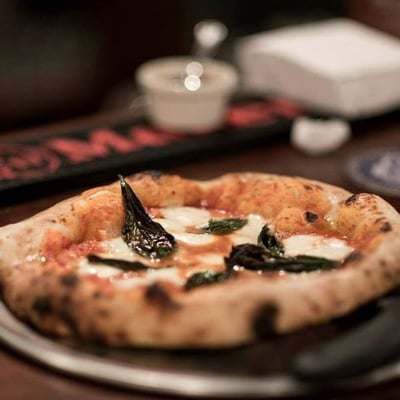sandwich: (3, 169, 399, 352)
